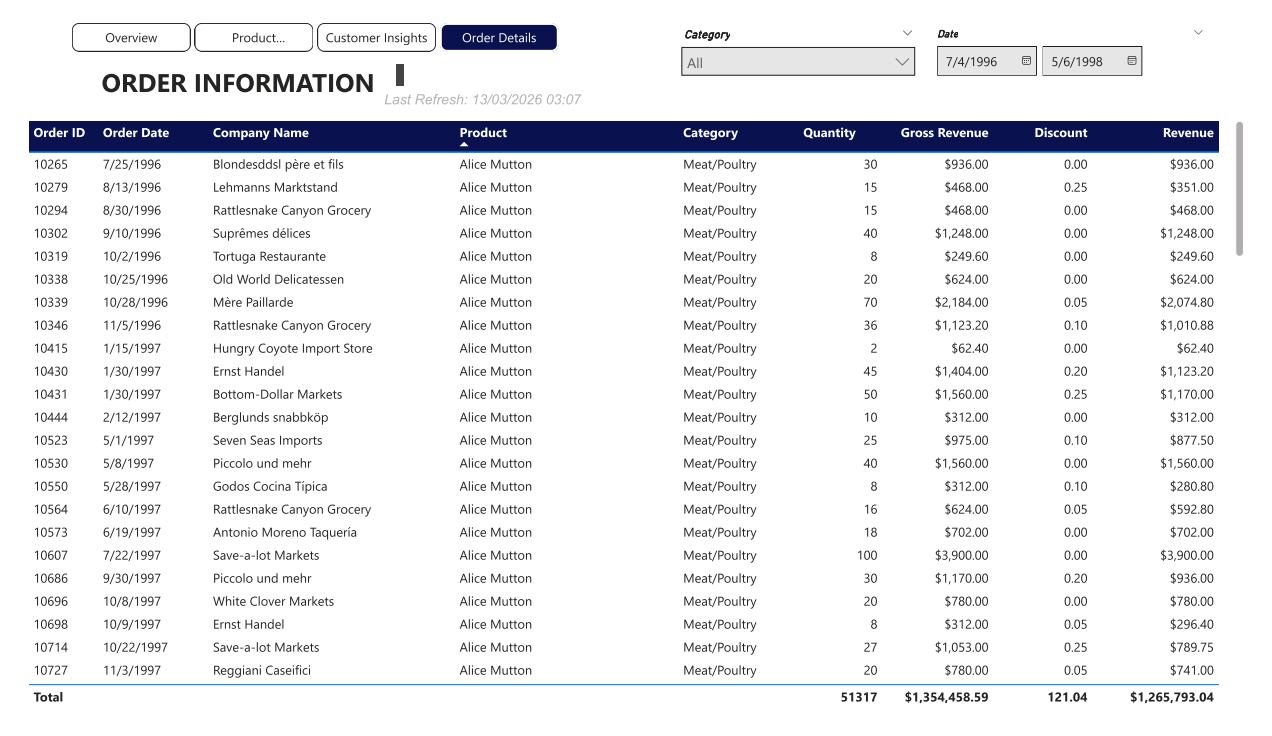

What the dashboard file says about the page in this screenshot:
{"tool":"powerbi","page":{"name":"Order Details","canvas":[1280,720],"ordinal":3},"visuals":[{"type":"slicer","fields":{"Values":["dim_categories.category_name"]},"box":[677,0,263.9,77],"z":0,"group":"g1"},{"type":"textbox","box":[77,37.7,325.4,45.8],"z":0},{"type":"slicer","fields":{"Values":["dim_date.Date"]},"box":[940.9,0,303.3,83.6],"z":1000,"group":"g1"},{"type":"tableEx","fields":{"Values":["fact_sales.order_id","dim_orders.order_date","dim_customers.company_name","dim_products.product_name","dim_categories.category_name","Sum(fact_sales.quantity)","all_measures.gross_revenue","Sum(fact_sales.discount)","all_measures.total_revenue"]},"box":[0,96.7,1278.7,623],"z":2000},{"type":"card","fields":{"Values":["all_measures.Last Refresh Text"]},"box":[370.5,65.6,218,31.1],"z":3000},{"type":"pageNavigator","box":[50.8,0,508.2,29.5],"z":4001},{"type":"group","id":"g1","title":"Group 2","box":[677,0,567.2,83.6],"z":4003}]}

Visuals, with their boxes in screenshot pixels (x1, y1, x2, y2), scaled from the page's 1280x720 canvas onto the 1272x736 screenshot:
slicer - dim_categories.category_name: (left=673, top=0, right=935, bottom=79)
textbox: (left=77, top=39, right=400, bottom=85)
slicer - dim_date.Date: (left=935, top=0, right=1236, bottom=85)
tableEx - fact_sales.order_id x dim_orders.order_date: (left=0, top=99, right=1271, bottom=735)
card - all_measures.Last Refresh Text: (left=368, top=67, right=585, bottom=99)
pageNavigator: (left=50, top=0, right=556, bottom=30)
"Group 2" group: (left=673, top=0, right=1236, bottom=85)
